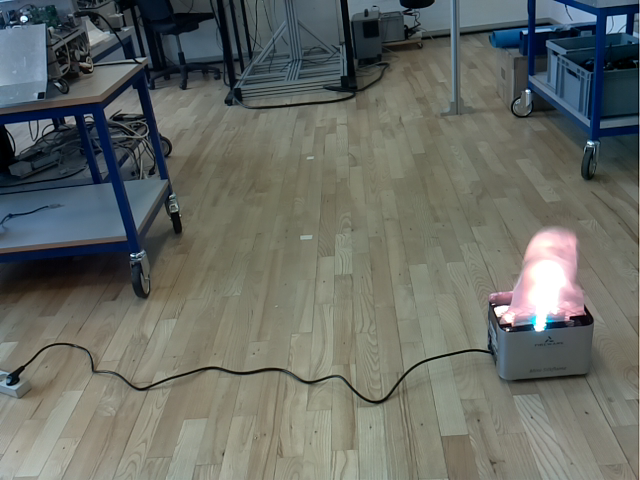fire: (500, 226, 587, 327)
